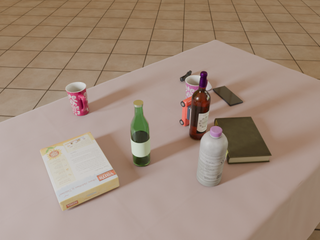book: (214, 117, 272, 164)
bottle: (197, 126, 228, 186), (189, 71, 211, 139), (130, 100, 150, 166)
box: (40, 132, 119, 211)
cup: (66, 82, 89, 116), (186, 75, 208, 98)
phone: (213, 86, 243, 106)
toy_car: (180, 96, 192, 126)
